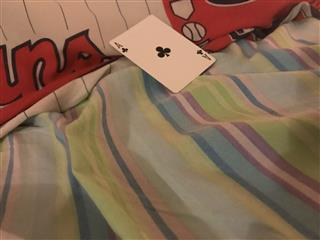AceOfClubs: (108, 14, 216, 93)
